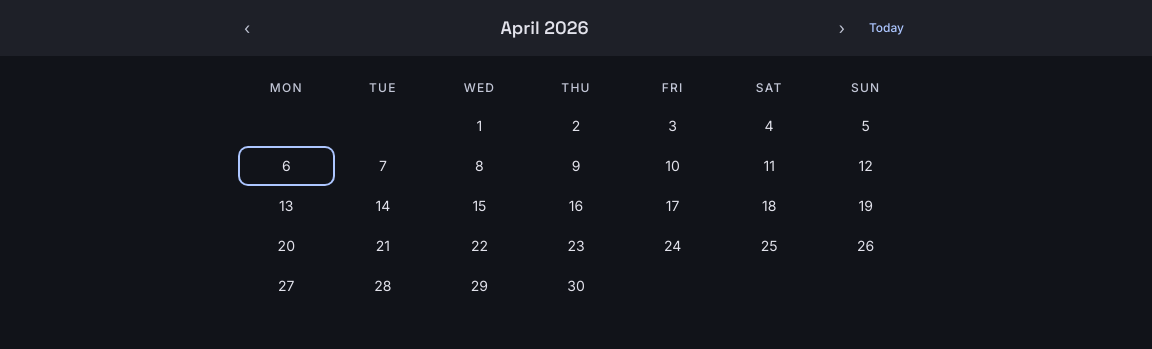
RemindersView › resets to current month when Today button is clicked
Navigate away
Click the button with test id "month-prev". click: (247, 28)
box: [240,12,254,44]
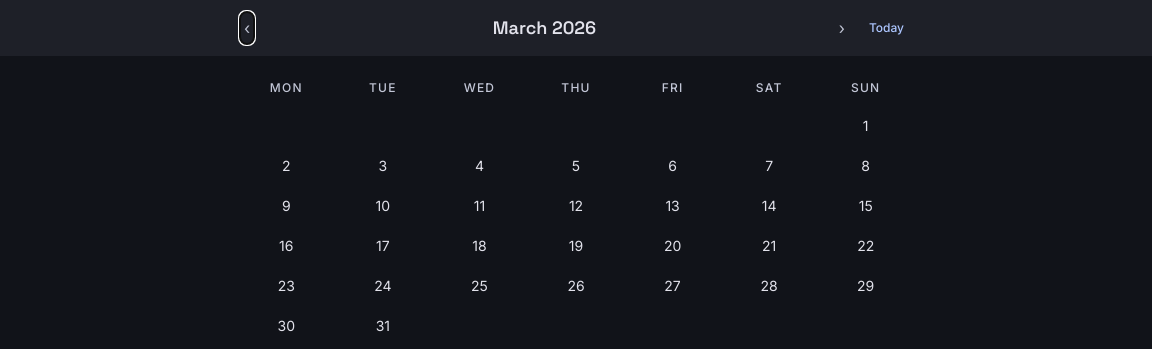
Click the button with test id "month-prev". click: (247, 28)
box: [240,12,254,44]
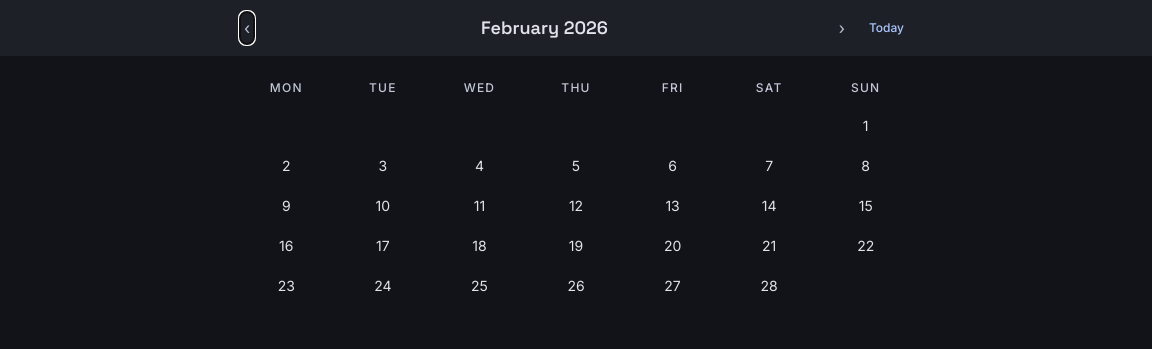
Expected: the heading with test id "reminders-header" reads "February 2026", [481,16,608,39]
Click Today
Click the button with test id "month-today". click: (886, 28)
box: [861,16,912,40]
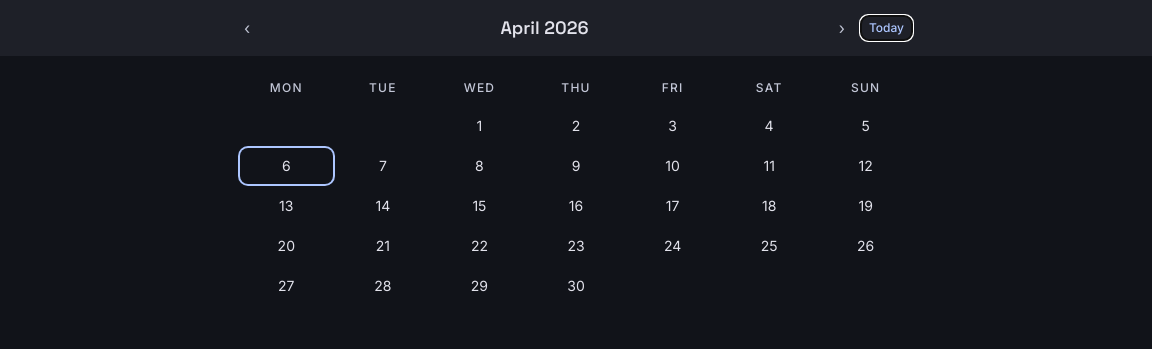
Expected: the heading with test id "reminders-header" reads "April 2026", [500,16,588,39]
